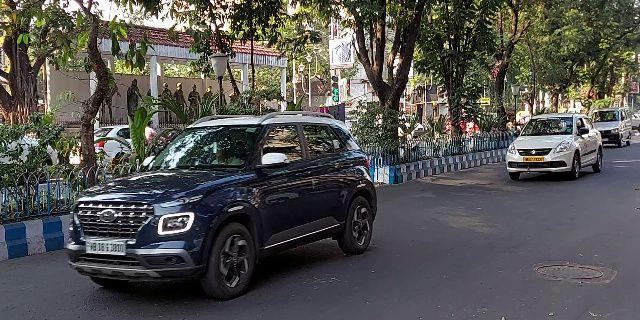Car: (63, 111, 379, 299), (503, 112, 604, 185)
Van: (589, 103, 634, 151)
